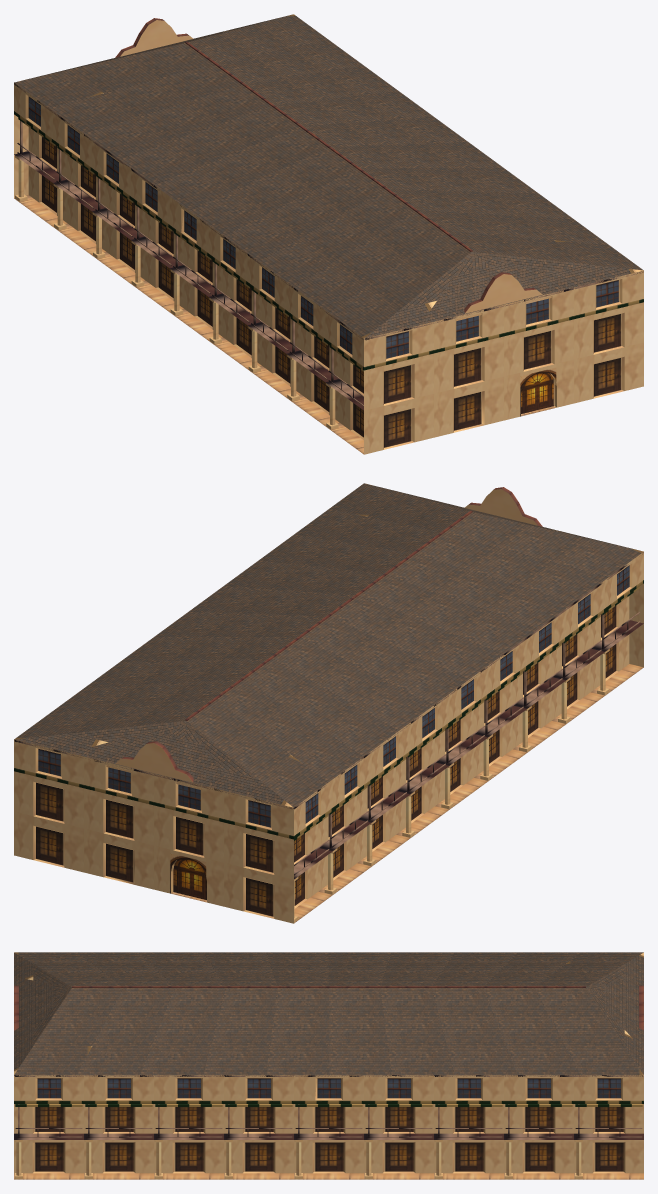
The model's file is LM_HollywoodHotel_Wing.fbx.
The picture shows the model from 3 angles, top to bottom: view 1: azimuth 30°, elevation 25°; view 2: azimuth 150°, elevation 25°; view 3: azimuth 270°, elevation 25°; orthographic projection. The views are drawn at different scales.
Parts seen in each view (by area): view 1: LM_HollywoodHotel_Wing; view 2: LM_HollywoodHotel_Wing; view 3: LM_HollywoodHotel_Wing.
Boxes of the visible parts, x1,y1,x2,y2 form: LM_HollywoodHotel_Wing: [14, 14, 643, 454]; LM_HollywoodHotel_Wing: [14, 483, 643, 923]; LM_HollywoodHotel_Wing: [14, 952, 643, 1179].
Size of the model in its own units: 24 by 52 by 12.
1 material, 1 textured.
